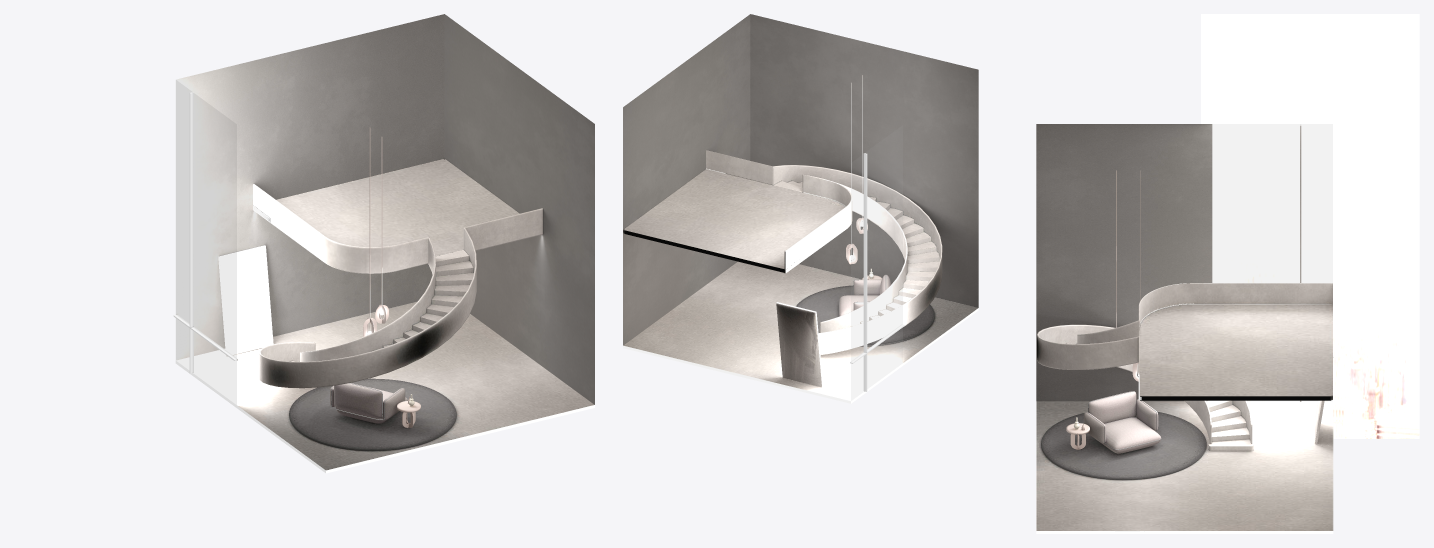
3 renders of one model, left to right at view 1: azimuth 30°, elevation 25°; view 2: azimuth 150°, elevation 25°; view 3: azimuth 270°, elevation 25°, orthographic. The views are drawn at different scales.
Visible parts, largest first — view 1: House____________________________10_0, floor____________________________10_002_0, Stairs____________________________10_003_0, _nd_floor____________________________10_001_0, carpet_Fabric_Upholstery_001a_0, painting_Material_010_0, sofa_Soft_Black_Fabric_0, lighting_Material_004_0; view 2: House____________________________10_0, floor____________________________10_002_0, Stairs____________________________10_003_0, _nd_floor____________________________10_001_0, painting_Material_010_0, carpet_Fabric_Upholstery_001a_0, sofa_Soft_Black_Fabric_0, lighting_Material_004_0; view 3: outside_Material_009_0, House____________________________10_0, floor____________________________10_002_0, _nd_floor____________________________10_001_0, Stairs____________________________10_003_0, carpet_Fabric_Upholstery_001a_0, sofa_Soft_Black_Fabric_0.
Boxes of the visible parts, x1,y1,x2,y2 form: House____________________________10_0: [173, 14, 594, 404]; floor____________________________10_002_0: [175, 302, 594, 473]; Stairs____________________________10_003_0: [253, 184, 542, 388]; _nd_floor____________________________10_001_0: [253, 159, 519, 255]; carpet_Fabric_Upholstery_001a_0: [289, 378, 456, 450]; painting_Material_010_0: [218, 245, 273, 356]; sofa_Soft_Black_Fabric_0: [330, 382, 407, 423]; lighting_Material_004_0: [363, 128, 388, 336]; House____________________________10_0: [623, 14, 978, 391]; floor____________________________10_002_0: [623, 261, 978, 403]; Stairs____________________________10_003_0: [706, 150, 942, 355]; _nd_floor____________________________10_001_0: [624, 169, 845, 272]; painting_Material_010_0: [776, 302, 822, 387]; carpet_Fabric_Upholstery_001a_0: [796, 285, 934, 346]; sofa_Soft_Black_Fabric_0: [839, 275, 891, 315]; lighting_Material_004_0: [846, 75, 867, 264]; outside_Material_009_0: [1201, 14, 1419, 438]; House____________________________10_0: [1036, 124, 1333, 401]; floor____________________________10_002_0: [1036, 401, 1333, 533]; _nd_floor____________________________10_001_0: [1139, 304, 1332, 400]; Stairs____________________________10_003_0: [1037, 283, 1332, 450]; carpet_Fabric_Upholstery_001a_0: [1041, 411, 1206, 479]; sofa_Soft_Black_Fabric_0: [1083, 391, 1161, 453].
Size of the model in its own units: 2.82 by 3 by 2.45.
15 materials, 12 textured.
